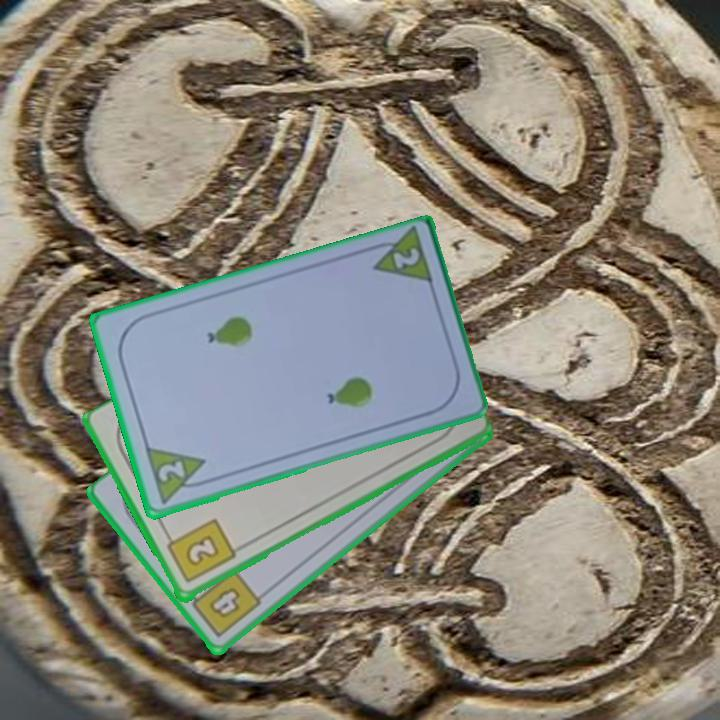2b: (162, 516, 239, 587)
2p: (141, 444, 213, 508), (388, 244, 423, 273)
4b: (184, 565, 265, 641)
